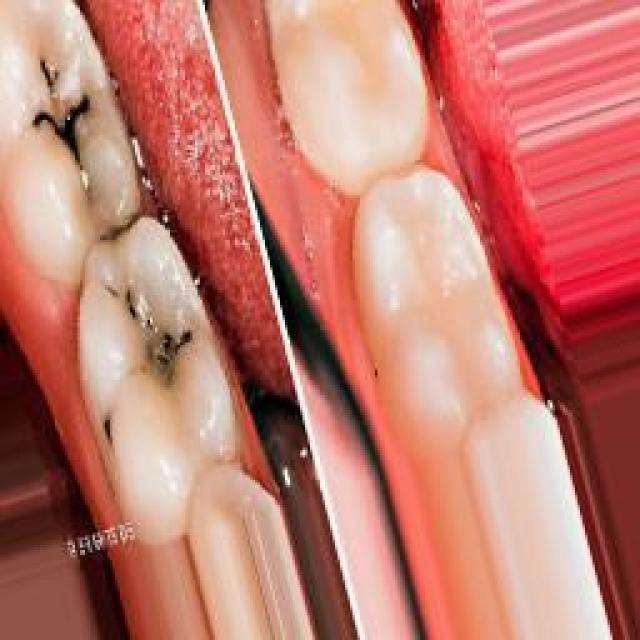caries: (20, 68, 105, 188), (102, 290, 190, 378), (98, 420, 121, 450)
